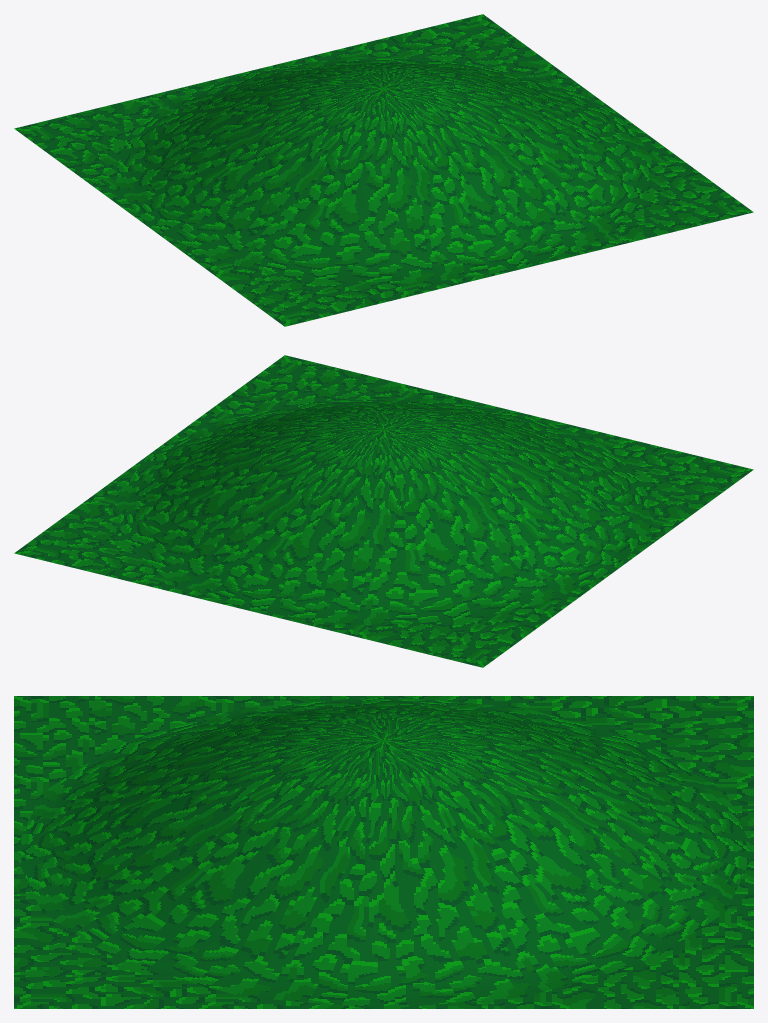
The model's file is hill.obj.
3 renders of one model, top to bottom at view 1: azimuth 30°, elevation 25°; view 2: azimuth 150°, elevation 25°; view 3: azimuth 270°, elevation 25°, orthographic. The views are drawn at different scales.
Visible parts, largest first — view 1: Grass.025_Grass.015, Grass.039_Grass.015, Grass.029_Grass.015, Grass.030_Grass.015; view 2: Grass.029_Grass.015, Grass.030_Grass.015, Grass.025_Grass.015, Grass.039_Grass.015; view 3: Grass.030_Grass.015, Grass.039_Grass.015, Grass.025_Grass.015, Grass.029_Grass.015.
Part boxes in pixels (bbox=[...]): Grass.025_Grass.015: bbox=[150, 89, 518, 326]; Grass.039_Grass.015: bbox=[384, 83, 753, 269]; Grass.029_Grass.015: bbox=[14, 70, 383, 227]; Grass.030_Grass.015: bbox=[249, 14, 617, 113]; Grass.029_Grass.015: bbox=[249, 430, 617, 667]; Grass.030_Grass.015: bbox=[14, 424, 383, 610]; Grass.025_Grass.015: bbox=[384, 411, 753, 568]; Grass.039_Grass.015: bbox=[150, 355, 518, 454]; Grass.030_Grass.015: bbox=[384, 740, 753, 1008]; Grass.039_Grass.015: bbox=[14, 740, 383, 1008]; Grass.025_Grass.015: bbox=[14, 696, 383, 852]; Grass.029_Grass.015: bbox=[384, 696, 753, 852].
Bounding box in the file's own units: 6 × 1 × 6.
Materials: 1 (1 with a texture image).
